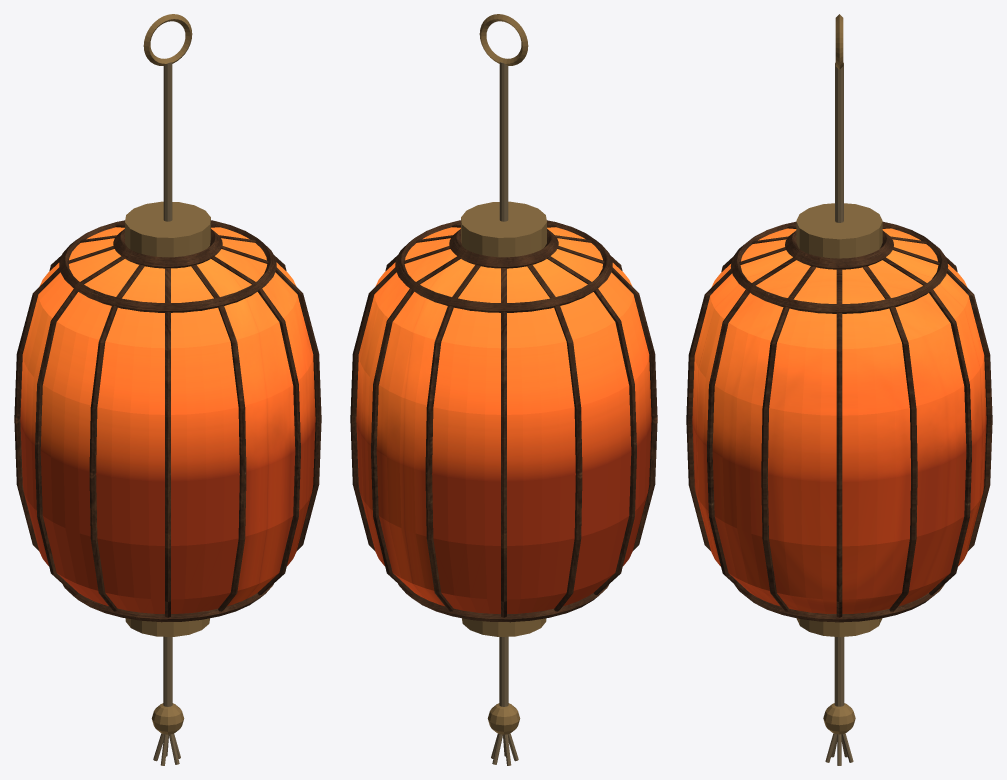
Rendered from lantern_refined_module.glb.
3 renders of one model, left to right at view 1: azimuth 30°, elevation 25°; view 2: azimuth 150°, elevation 25°; view 3: azimuth 270°, elevation 25°, orthographic.
Visible parts, largest first — view 1: LanternRefined_Paper, LanternRefined_Wood, LanternRefined_Bronze, LanternRefined_Rope; view 2: LanternRefined_Paper, LanternRefined_Wood, LanternRefined_Bronze, LanternRefined_Rope; view 3: LanternRefined_Paper, LanternRefined_Wood, LanternRefined_Bronze, LanternRefined_Rope.
Part boxes in pixels (x1,y1,x2,y2): LanternRefined_Paper: (20, 227, 315, 613); LanternRefined_Wood: (14, 220, 321, 622); LanternRefined_Bronze: (125, 14, 210, 734); LanternRefined_Rope: (153, 62, 180, 765); LanternRefined_Paper: (356, 227, 651, 613); LanternRefined_Wood: (350, 220, 657, 622); LanternRefined_Bronze: (461, 14, 546, 734); LanternRefined_Rope: (491, 62, 518, 765); LanternRefined_Paper: (692, 228, 986, 613); LanternRefined_Wood: (686, 221, 992, 622); LanternRefined_Bronze: (796, 14, 882, 734); LanternRefined_Rope: (825, 62, 853, 765).
Size of the model in its own units: 0.5098 by 1.37 by 0.5098.
Materials: 4 (2 with a texture image).
